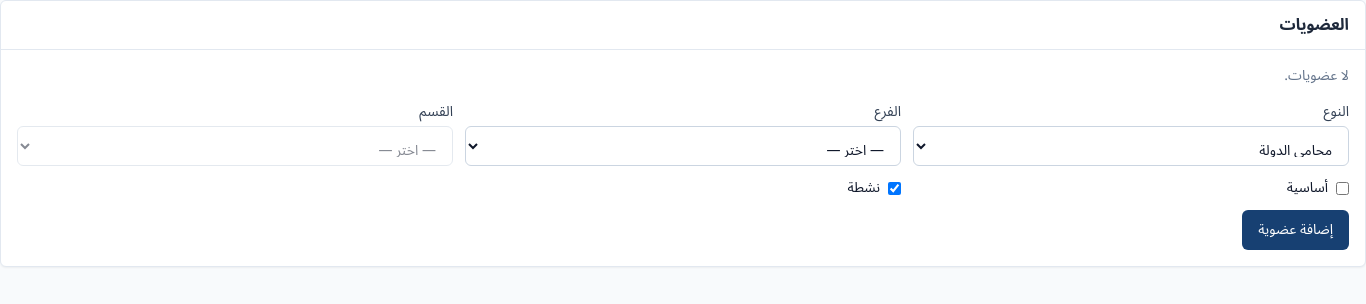
Test case: MembershipsSection › rejects non-BRANCH_HEAD without departmentId
Select "رئيس قسم" in the dropdown named "membership-type": (1131, 146) 913,126 -> 1349,166
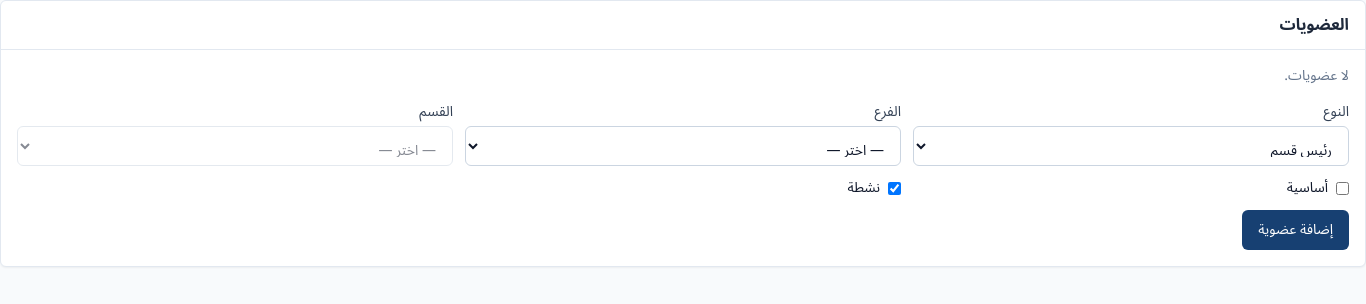
Select "دمشق" in the dropdown named "membership-branch": (683, 146) 465,126 -> 901,166
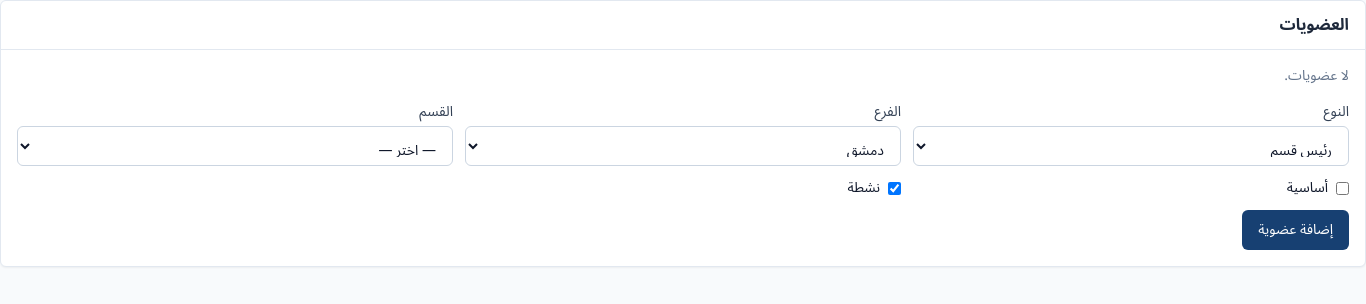
Submit the form with test id "admin-memberships-add-form", box 17,102 -> 1349,250
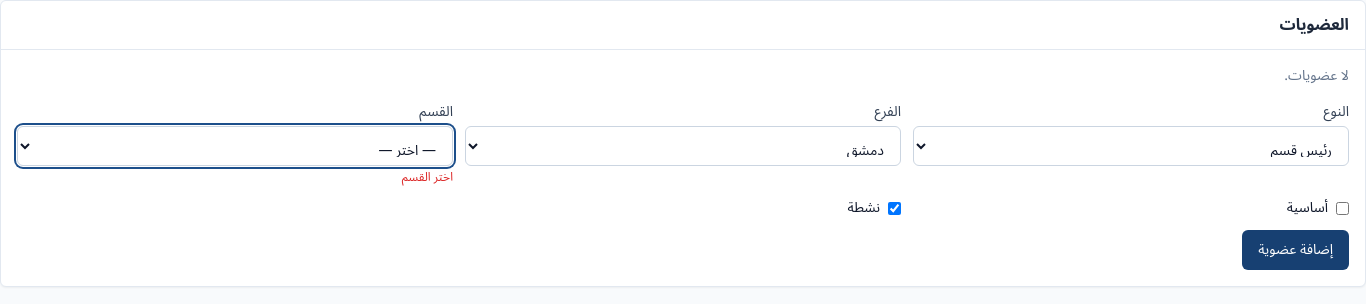
Expected: the text "اختر القسم" is shown, 402,165 -> 453,190
